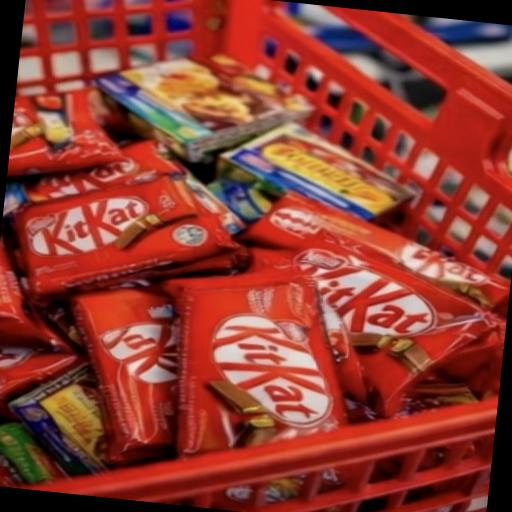kitkat: (121, 255, 509, 512), (0, 123, 279, 293)
